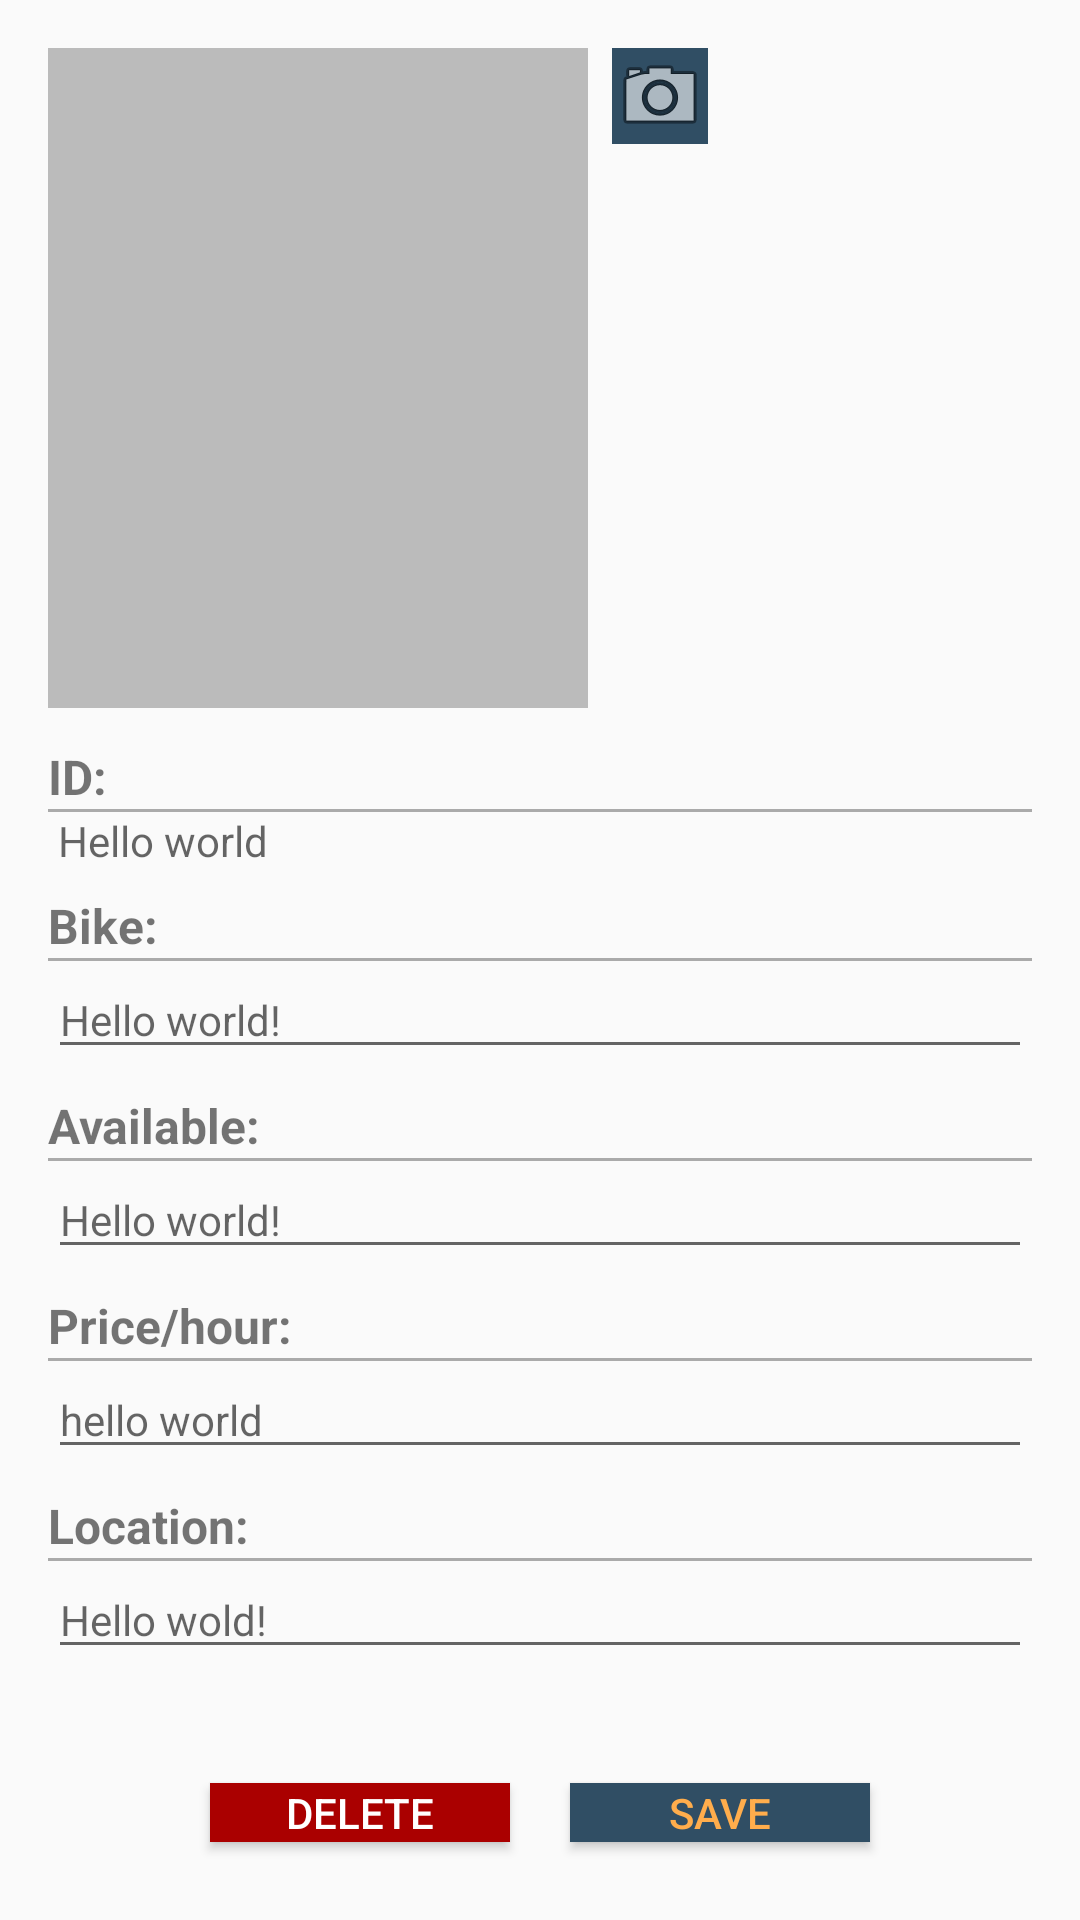

Named icons in this screenshot (1080x1920) and their centers, (x,y):
camera: (660,96)
